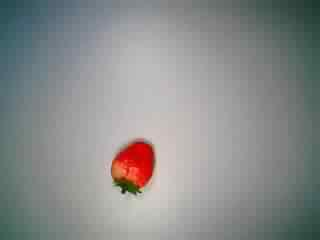strawberry: (98, 136, 164, 198)
